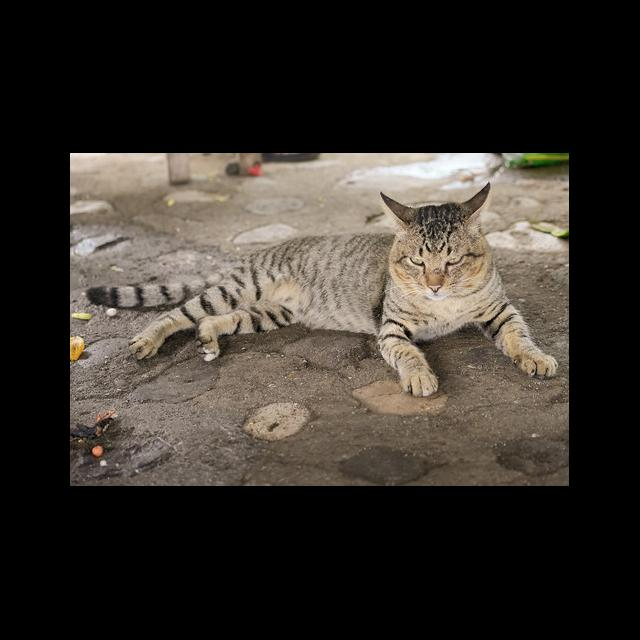animals: (87, 183, 559, 397)
